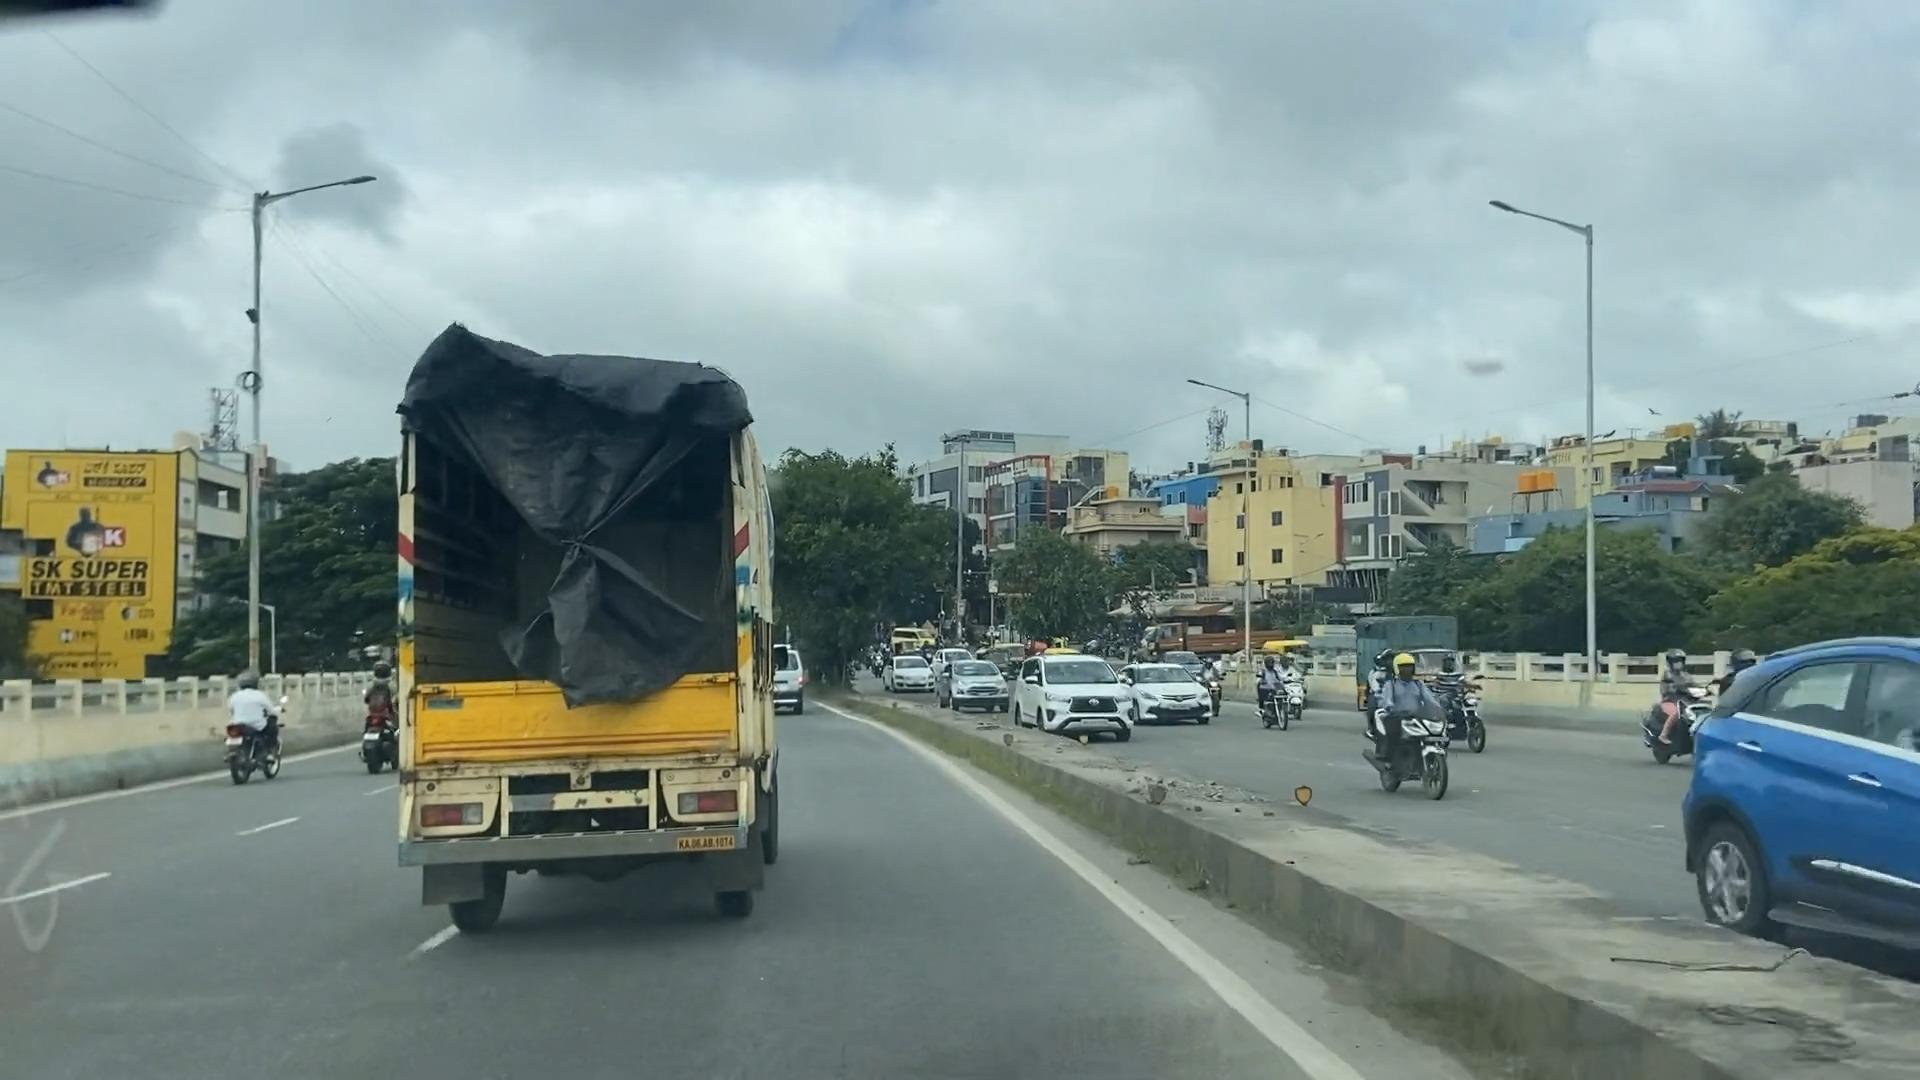HMV: (347, 319, 795, 963)
